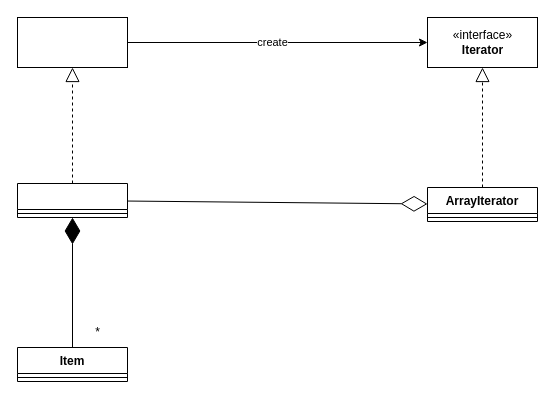
Some shapes in this 555 by 399 pixel diagram are drawn without their labels. Each missing label, with the centre of its shape:
"Array" goes at (72,200).
"«interface» Aggregator" goes at (72,42).
